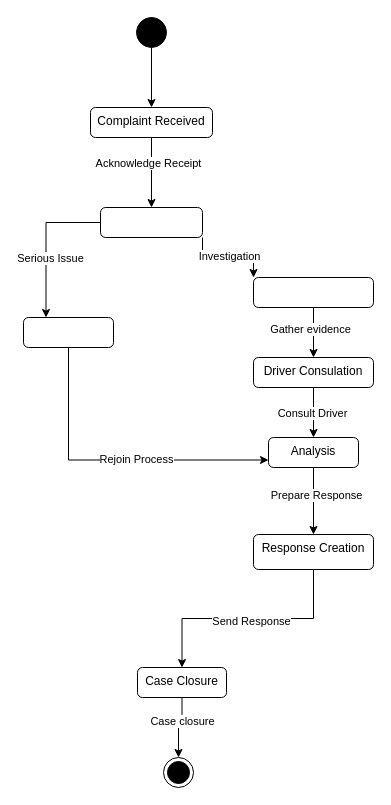
Image size: 391x805. Some labels were removed from this diagram. The centre of each missing label's shape, as x and y in pixels:
Escalation: the point at 68,332
Evidence Collection: the point at 313,292
Initial Review: the point at 151,222
